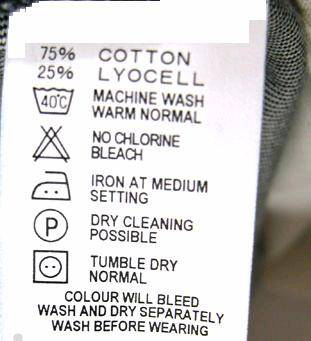ER_dry_clean_chemical: (28, 208, 72, 245)
ER_iron_medium_temp: (29, 167, 74, 206)
ER_no_bleach: (29, 119, 72, 166)
ER_tumble_dry_normal_heat: (26, 248, 73, 287)
ER_wash_40: (31, 82, 75, 118)
